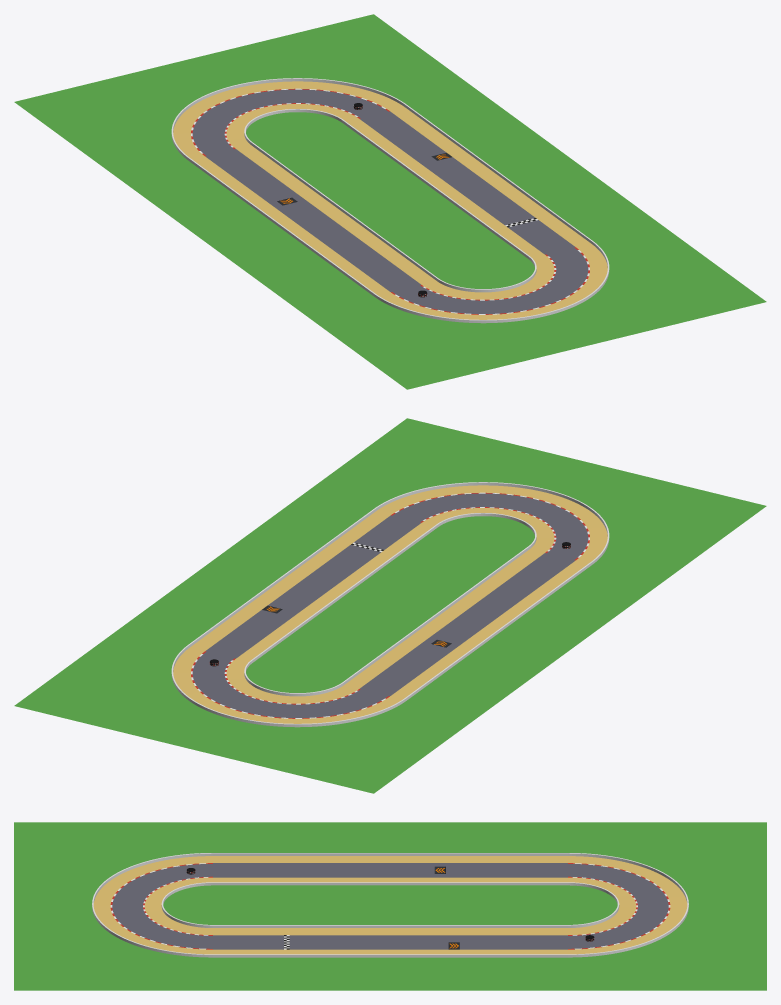
File: oval.glb
The picture shows the model from 3 angles, top to bottom: view 1: azimuth 30°, elevation 25°; view 2: azimuth 150°, elevation 25°; view 3: azimuth 270°, elevation 25°; orthographic projection. The views are drawn at different scales.
Parts seen in each view (by area): view 1: Grass, Asphalt, SandRight, SandLeft, WallRight, WallLeft; view 2: Grass, Asphalt, SandRight, SandLeft, WallRight, WallLeft; view 3: Grass, Asphalt, SandRight, SandLeft, WallRight, WallLeft.
Part boxes in pixels (left/top/right/bottom): Grass: left=14, top=14, right=766, bottom=389; Asphalt: left=192, top=89, right=588, bottom=314; SandRight: left=173, top=81, right=607, bottom=319; SandLeft: left=226, top=104, right=554, bottom=299; WallRight: left=171, top=78, right=609, bottom=323; WallLeft: left=244, top=109, right=536, bottom=292; Grass: left=14, top=418, right=766, bottom=793; Asphalt: left=192, top=493, right=588, bottom=718; SandRight: left=173, top=485, right=607, bottom=723; SandLeft: left=226, top=508, right=554, bottom=703; WallRight: left=171, top=482, right=609, bottom=727; WallLeft: left=244, top=513, right=536, bottom=696; Grass: left=14, top=822, right=766, bottom=990; Asphalt: left=112, top=863, right=668, bottom=949; SandRight: left=93, top=856, right=687, bottom=954; SandLeft: left=144, top=877, right=636, bottom=935; WallRight: left=92, top=853, right=688, bottom=957; WallLeft: left=161, top=882, right=619, bottom=927.
Bounding box in the file's own units: 140 × 1.25 × 265.
